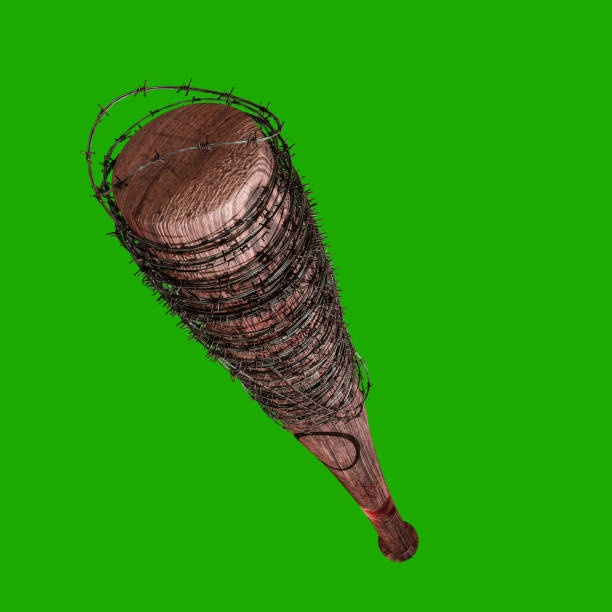bita: (131, 101, 422, 564)
